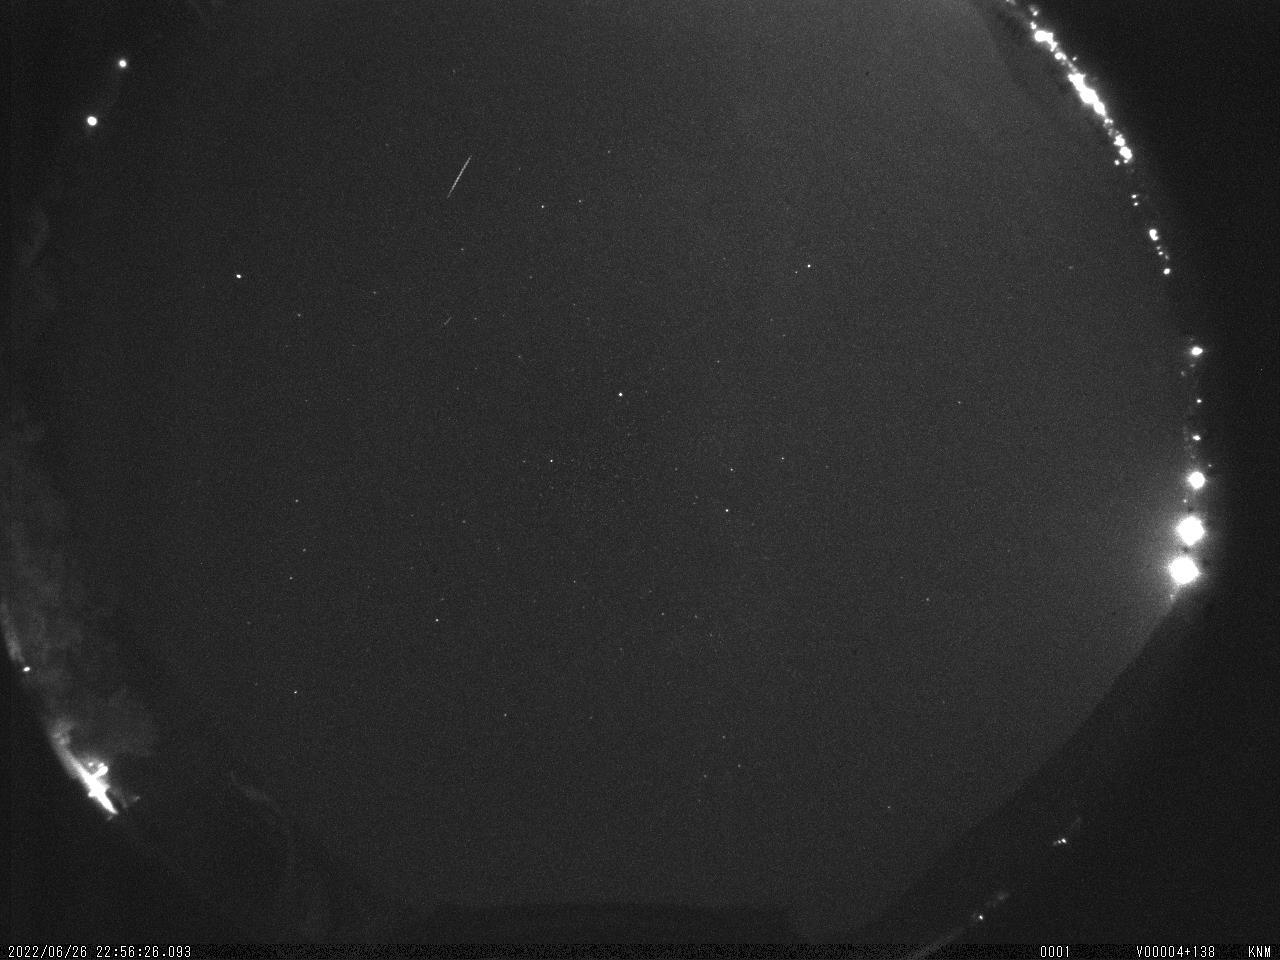Meteor: (442, 149, 479, 206)
